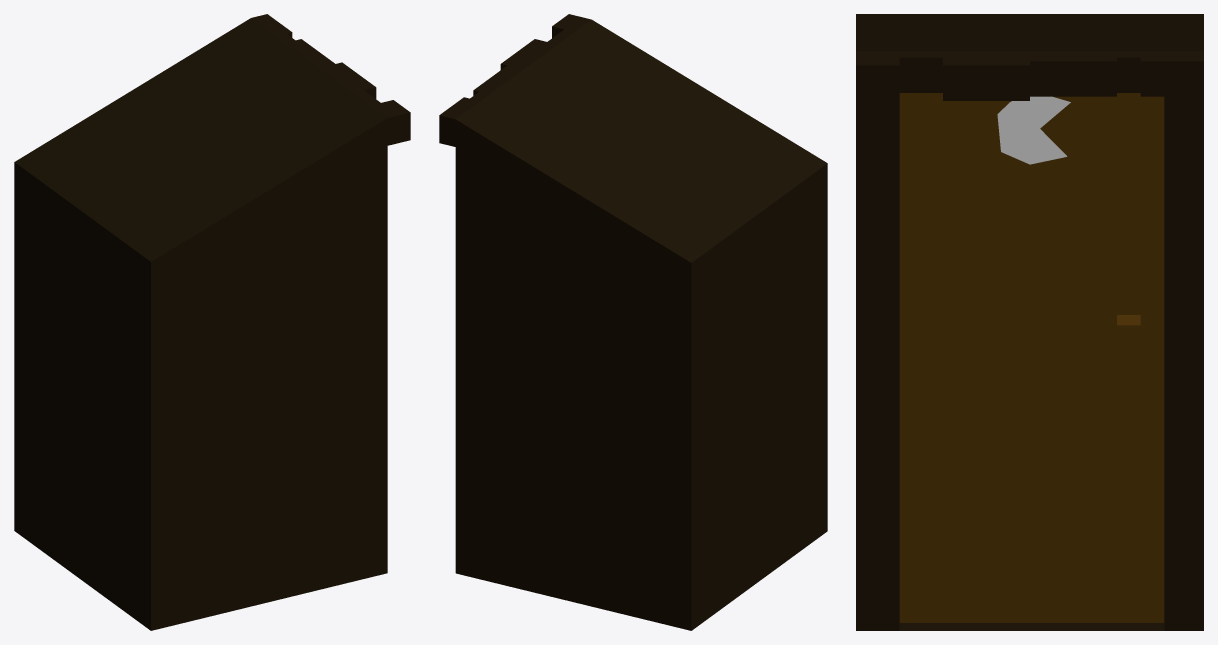
The model's file is outhouse.fbx.
3 renders of one model, left to right at view 1: azimuth 30°, elevation 25°; view 2: azimuth 150°, elevation 25°; view 3: azimuth 270°, elevation 25°, orthographic. The views are drawn at different scales.
Parts seen in each view (by area): view 1: Cube; view 2: Cube; view 3: Cube.
Part boxes in pixels (bbox=[...]): Cube: bbox=[14, 14, 410, 630]; Cube: bbox=[439, 14, 827, 630]; Cube: bbox=[856, 14, 1203, 630].
Bounding box in the file's own units: 350 × 587 × 319.
